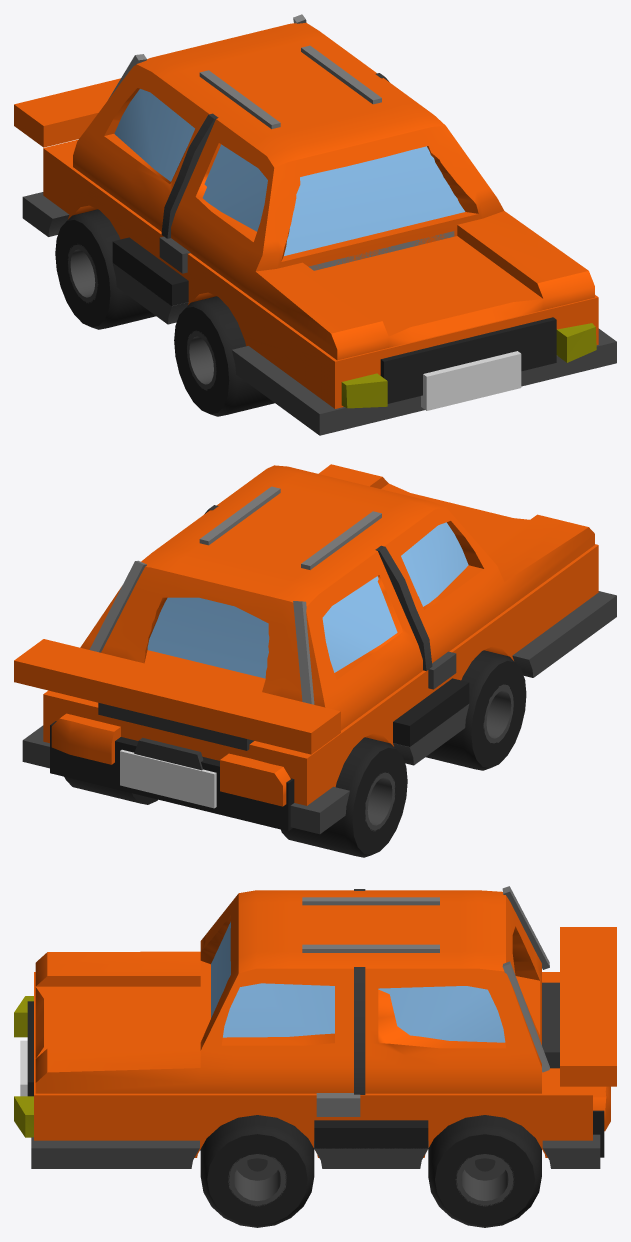
Rendered from car5.obj.
3 views of the same model, one above another, from view 1: azimuth 30°, elevation 25°; view 2: azimuth 150°, elevation 25°; view 3: azimuth 270°, elevation 25° (orthographic). The views are drawn at different scales.
Parts seen in each view (by area): view 1: group1 polySurface9, group1 pCube21, group1 polySurface1, group1 polySurface3, group1 pCube25, group1 pPipe5, group1 pPipe7, group1 pCube22, group1 pCube8, group1 pCube13, group1 pCube29, group1 pCube41 (+7 smaller); view 2: group1 polySurface9, group1 polySurface1, group1 pCube22, group1 pCube21, group1 polySurface3, group1 pPipe7, group1 pPipe5, group1 pCube38, group1 pCube33, group1 pCube42, group1 pCube13, group1 pCube39 (+11 smaller); view 3: group1 polySurface9, group1 polySurface1, group1 pCube21, group1 pCube22, group1 polySurface3, group1 pPipe1, pPipe3 group1, group1 pCube13, group1 pPipe2, group1 pPipe4, group1 pCube29, group1 pCube18 (+11 smaller).
Boxes of the visible parts, bbox=[...] form: group1 polySurface9: bbox=[73, 22, 594, 360]; group1 pCube21: bbox=[114, 89, 465, 255]; group1 polySurface1: bbox=[43, 139, 598, 408]; group1 polySurface3: bbox=[22, 192, 616, 435]; group1 pCube25: bbox=[380, 317, 556, 403]; group1 pPipe5: bbox=[174, 296, 274, 416]; group1 pPipe7: bbox=[55, 209, 155, 329]; group1 pCube22: bbox=[14, 78, 120, 147]; group1 pCube8: bbox=[421, 351, 521, 410]; group1 pCube13: bbox=[112, 237, 188, 305]; group1 pCube29: bbox=[161, 73, 389, 238]; group1 pCube41: bbox=[341, 373, 387, 408]; group1 polySurface9: bbox=[80, 464, 594, 730]; group1 polySurface1: bbox=[43, 544, 598, 805]; group1 pCube22: bbox=[14, 639, 340, 754]; group1 pCube21: bbox=[147, 522, 468, 678]; group1 polySurface3: bbox=[22, 591, 616, 834]; group1 pPipe7: bbox=[281, 737, 407, 857]; group1 pPipe5: bbox=[425, 650, 526, 770]; group1 pCube38: bbox=[50, 721, 294, 831]; group1 pCube33: bbox=[120, 749, 216, 808]; group1 pCube42: bbox=[220, 753, 290, 806]; group1 pCube13: bbox=[393, 678, 469, 746]; group1 pCube39: bbox=[51, 713, 120, 764]; group1 polySurface9: bbox=[35, 890, 541, 1093]; group1 polySurface1: bbox=[34, 972, 592, 1157]; group1 pCube21: bbox=[211, 921, 505, 1042]; group1 pCube22: bbox=[560, 927, 616, 1086]; group1 polySurface3: bbox=[31, 1134, 600, 1168]; group1 pPipe1: bbox=[200, 1115, 314, 1227]; pPipe3 group1: bbox=[428, 1115, 541, 1227]; group1 pCube13: bbox=[314, 1120, 428, 1148]; group1 pPipe2: bbox=[228, 1154, 286, 1206]; group1 pPipe4: bbox=[455, 1154, 513, 1206]; group1 pCube29: bbox=[354, 889, 365, 1094]; group1 pCube18: bbox=[542, 982, 559, 1068].
Bounding box in the file's own units: 2.89 × 2.32 × 5.3.
